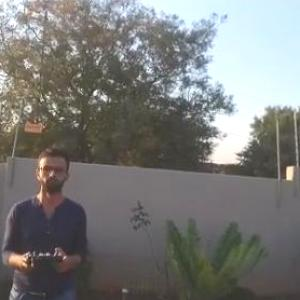follow: (0, 139, 92, 299)
